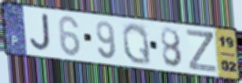6: (57, 14, 83, 58)
8: (159, 26, 183, 69)
9: (95, 19, 117, 61)
J: (28, 13, 52, 53)
Q: (121, 21, 153, 67)
Z: (185, 28, 218, 74)
